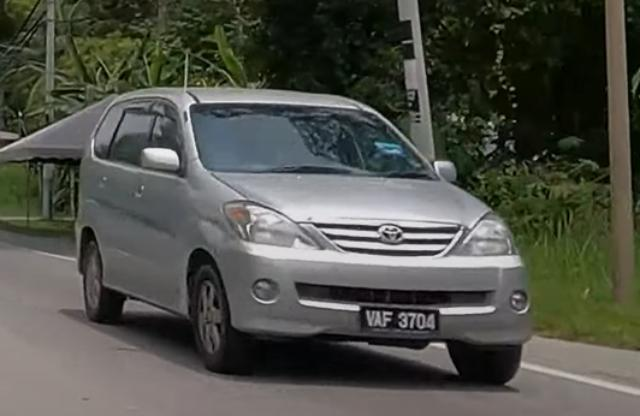License_Plate: (360, 305, 441, 336)
car: (75, 83, 535, 399)
